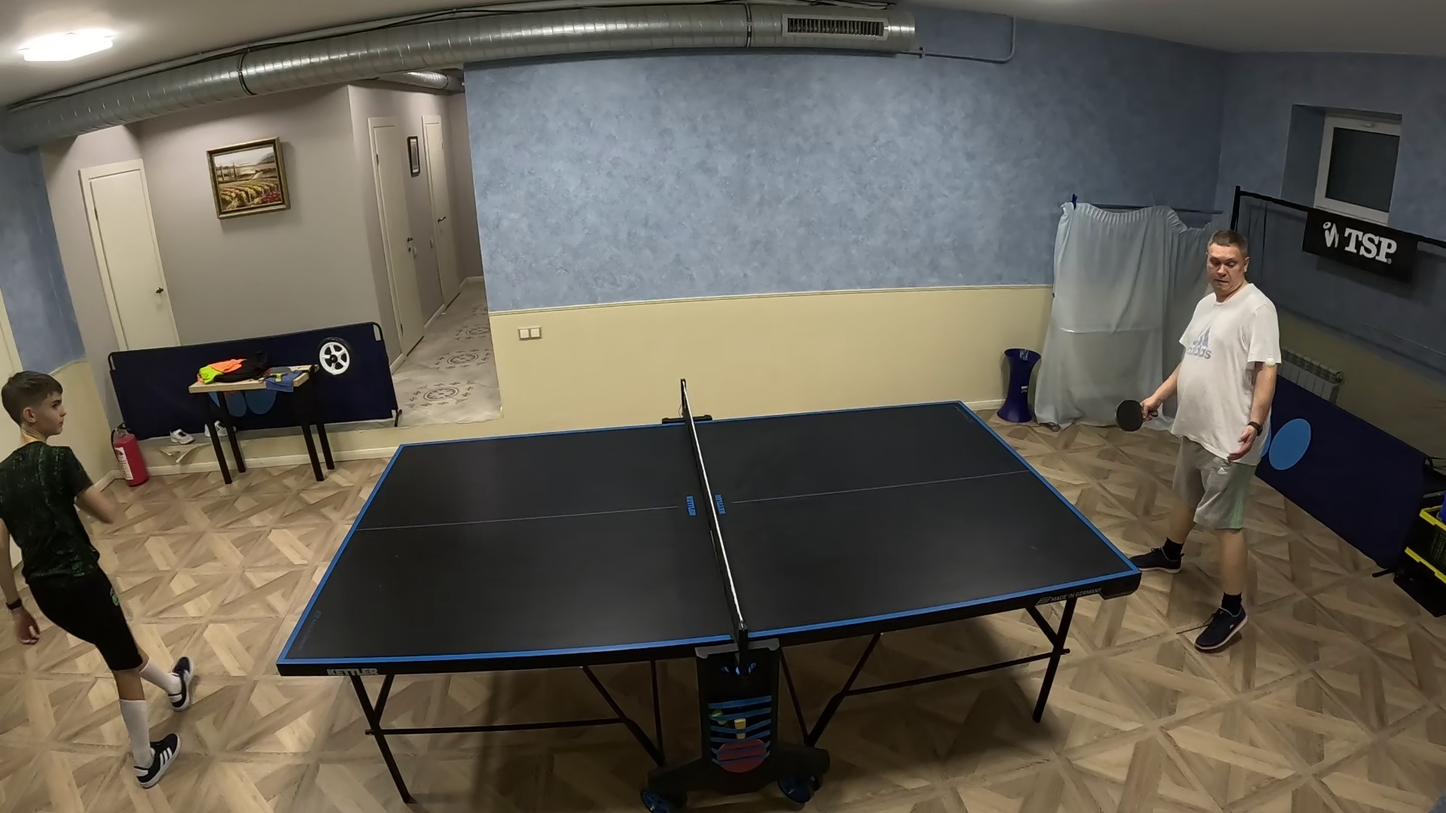Ball: (1265, 358, 1276, 367)
